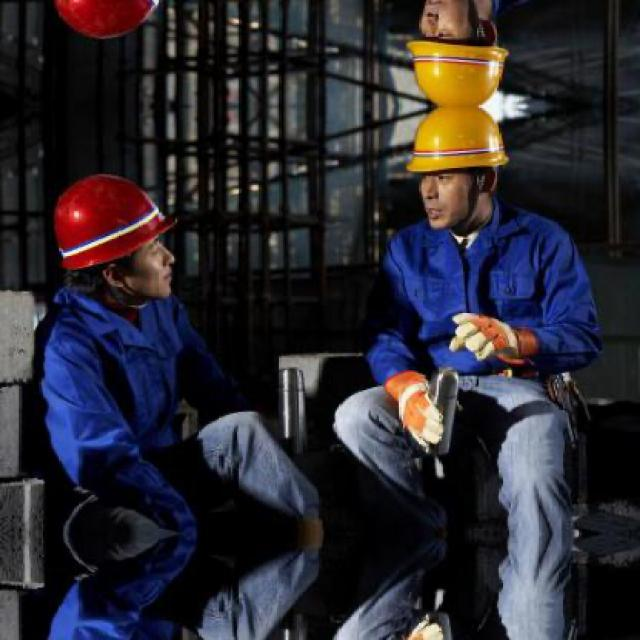helmet: (39, 159, 184, 311), (398, 108, 520, 233), (399, 0, 522, 106), (39, 0, 186, 56)
